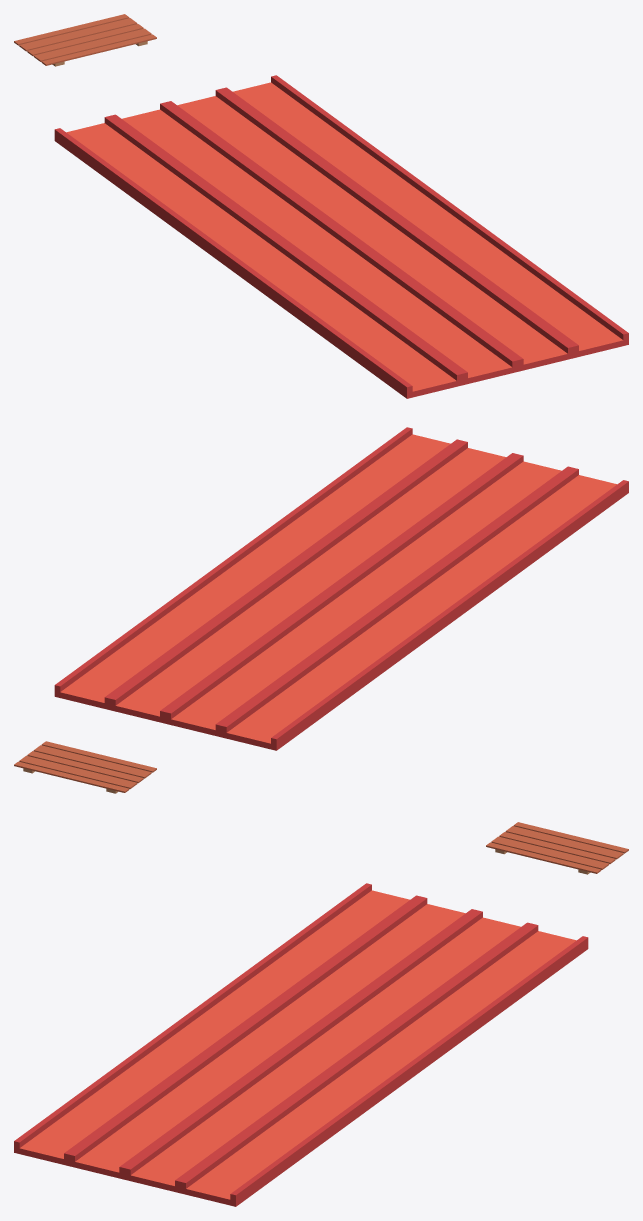
File: Platform.dae
3 renders of one model, top to bottom at view 1: azimuth 30°, elevation 25°; view 2: azimuth 150°, elevation 25°; view 3: azimuth 330°, elevation 25°, orthographic.
Visible parts, largest first — view 1: roof_flatStraight (×4), platform_wood; view 2: roof_flatStraight (×4), platform_wood; view 3: roof_flatStraight (×4), platform_wood.
Part boxes in pixels (x1,y1,x2,y2): roof_flatStraight (×4): (54, 75, 628, 398); platform_wood: (14, 14, 156, 66); roof_flatStraight (×4): (54, 427, 628, 750); platform_wood: (14, 741, 156, 793); roof_flatStraight (×4): (14, 883, 588, 1206); platform_wood: (486, 822, 628, 874).
Bounding box in the file's own units: 4 × 0.275 × 14.
